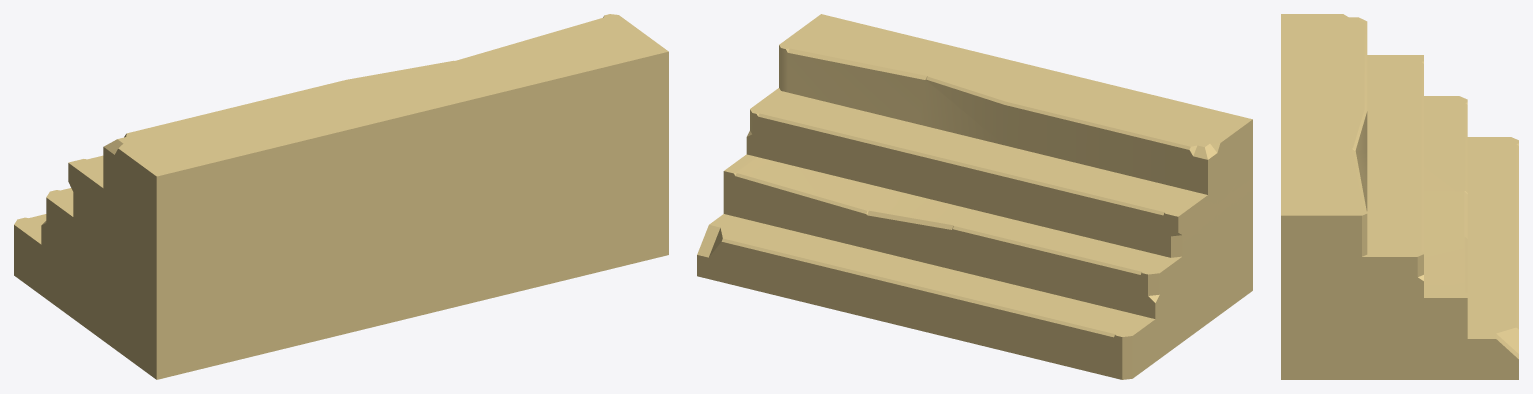
Rendered from Carved_Stones_4_Stairs.fbx.
The picture shows the model from 3 angles, left to right: view 1: azimuth 30°, elevation 25°; view 2: azimuth 150°, elevation 25°; view 3: azimuth 270°, elevation 25°; orthographic projection. The views are drawn at different scales.
Visible parts, largest first — view 1: MESH_Carved_Stones_4; view 2: MESH_Carved_Stones_4; view 3: MESH_Carved_Stones_4.
Part boxes in pixels (<box>): MESH_Carved_Stones_4: <box>14,14,668,379</box>; MESH_Carved_Stones_4: <box>697,14,1252,379</box>; MESH_Carved_Stones_4: <box>1281,14,1518,379</box>.
Size of the model in its own units: 10.26 by 3.89 by 5.11.
